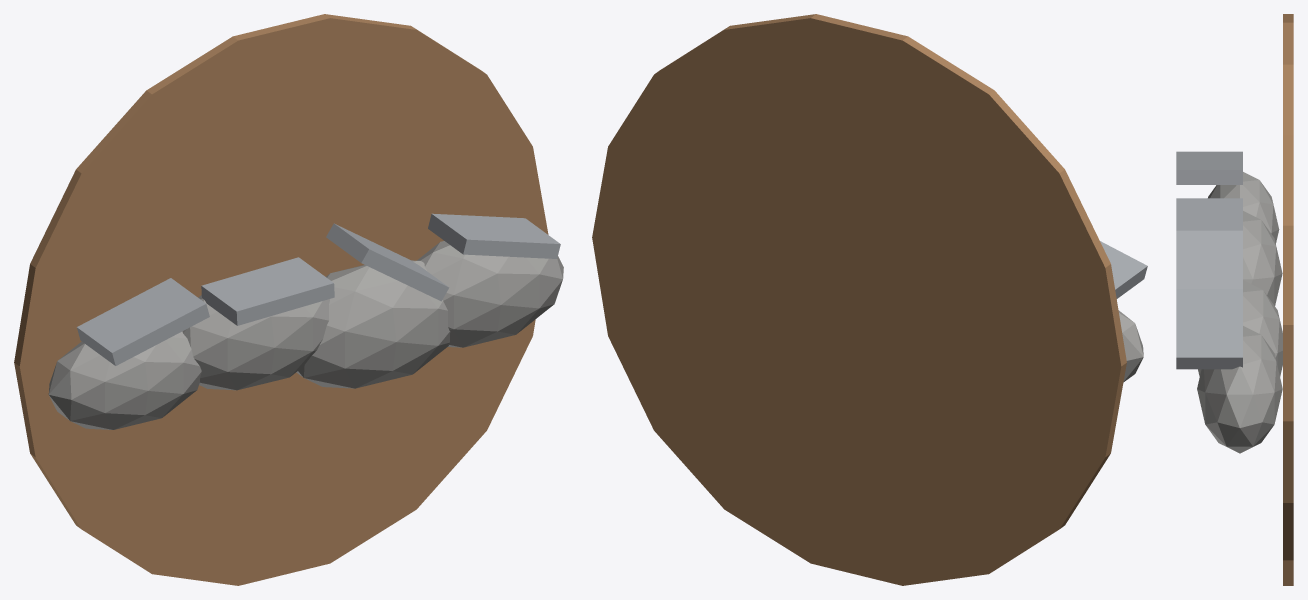
File: 03_ambient_object_cluster.glb
3 renders of one model, left to right at view 1: azimuth 30°, elevation 25°; view 2: azimuth 150°, elevation 25°; view 3: azimuth 270°, elevation 25°, orthographic. The views are drawn at different scales.
Visible parts, largest first — view 1: scatter_base, scrap_rock_2, scrap_rock_0, scrap_rock_3, scrap_rock_1, scrap_plate_0, scrap_plate_1, scrap_plate_3, scrap_plate_2; view 2: scatter_base, scrap_plate_0, scrap_rock_0; view 3: scrap_rock_3, scatter_base, scrap_plate_3, scrap_plate_2, scrap_rock_1, scrap_plate_0, scrap_plate_1, scrap_rock_2, scrap_rock_0.
Part boxes in pixels (x1,y1,x2,y2): scatter_base: (14,14,548,585); scrap_rock_2: (296,260,450,388); scrap_rock_0: (48,331,201,429); scrap_rock_3: (417,241,563,347); scrap_rock_1: (182,295,329,390); scrap_plate_0: (77,278,209,365); scrap_plate_1: (201,257,334,325); scrap_plate_3: (428,213,560,258); scrap_plate_2: (326,223,449,301); scatter_base: (592,14,1126,585); scrap_plate_0: (1100,241,1147,298); scrap_rock_0: (1118,310,1143,382); scrap_rock_3: (1197,326,1282,453); scatter_base: (1283,14,1293,585); scrap_plate_3: (1176,289,1242,369); scrap_plate_2: (1176,230,1242,288); scrap_rock_1: (1243,211,1282,305); scrap_plate_0: (1176,151,1242,184); scrap_plate_1: (1176,198,1242,230); scrap_rock_2: (1198,280,1282,376); scrap_rock_0: (1208,172,1279,243).
Bounding box in the file's own units: 1.9 × 1.87 × 0.3875.
